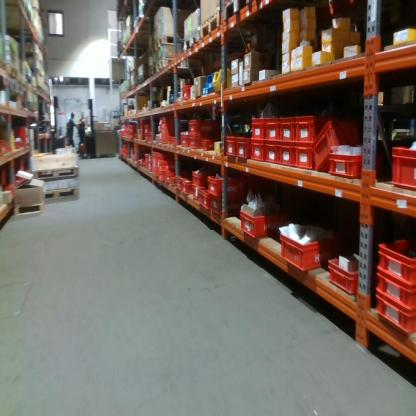pallet: (220, 0, 252, 23), (199, 10, 223, 40), (33, 165, 77, 180), (45, 185, 79, 201), (154, 34, 183, 51), (183, 29, 202, 51), (156, 58, 174, 74), (147, 43, 155, 60), (148, 67, 156, 80), (138, 76, 145, 87)
pallet_truck: (50, 91, 70, 149), (79, 96, 96, 161)
small_load_carrier: (311, 113, 359, 178), (280, 229, 339, 274), (374, 235, 415, 286), (371, 271, 414, 314), (371, 294, 415, 336), (327, 247, 359, 298), (328, 149, 371, 185), (239, 206, 284, 238), (294, 110, 322, 146), (391, 145, 415, 186), (210, 193, 244, 217), (208, 174, 244, 194), (158, 114, 174, 153), (152, 151, 169, 182), (295, 144, 315, 169), (279, 116, 298, 142), (279, 142, 297, 169), (264, 116, 281, 143), (189, 119, 217, 135), (250, 118, 268, 142), (264, 143, 281, 165), (237, 133, 251, 158), (224, 135, 237, 159), (182, 176, 193, 203), (188, 170, 202, 188), (250, 142, 263, 161), (188, 134, 201, 152), (180, 84, 192, 103), (165, 170, 183, 182), (201, 136, 216, 150), (199, 195, 210, 213), (14, 127, 31, 137), (178, 131, 192, 142), (158, 161, 172, 172), (1, 140, 9, 159), (191, 186, 201, 201), (14, 136, 22, 153), (175, 174, 183, 190), (158, 172, 168, 183), (171, 134, 179, 147), (167, 134, 172, 148), (22, 137, 31, 144)
